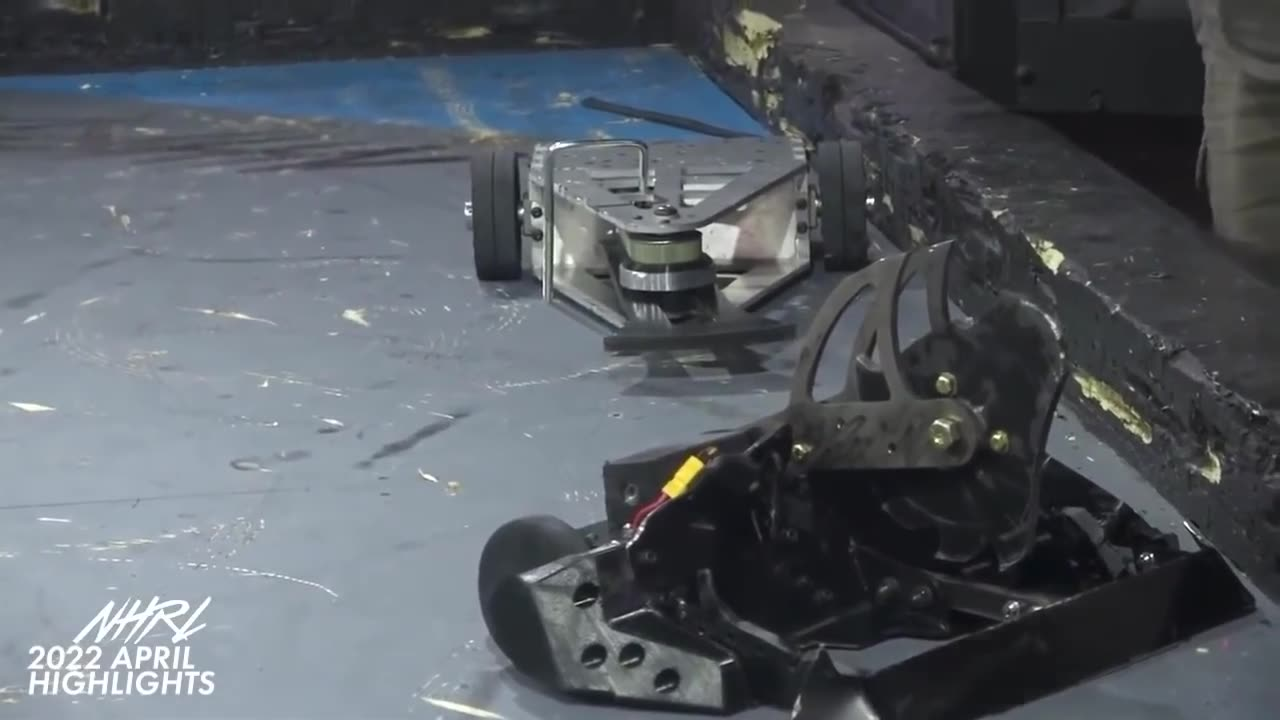combatbot: (478, 241, 1256, 720), (470, 143, 868, 351)
